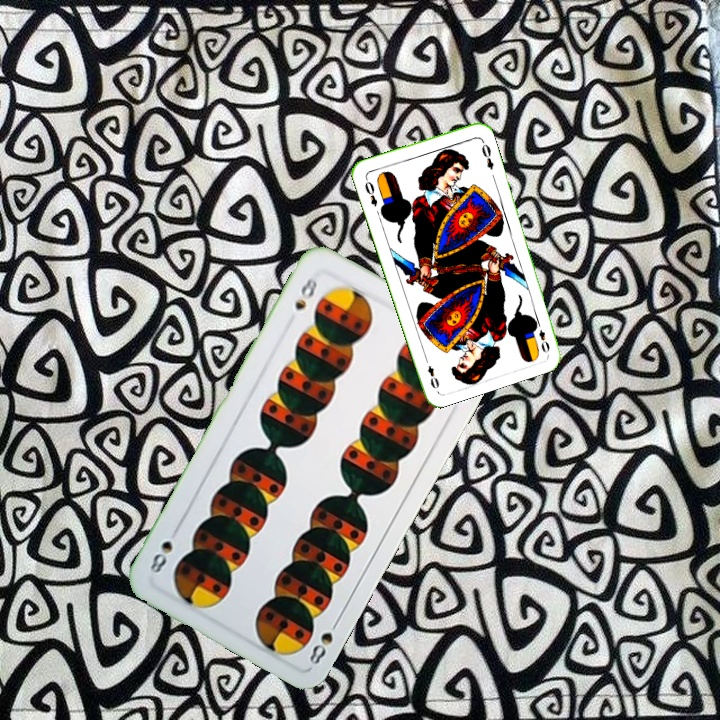EO: (361, 174, 380, 210), (535, 326, 552, 355)
S8: (305, 614, 343, 667), (290, 272, 320, 313)
